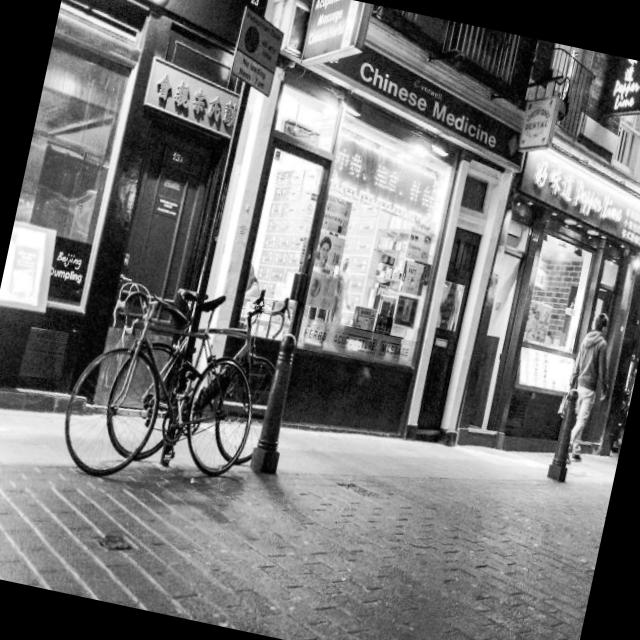Bicycle: (41, 279, 242, 508), (180, 275, 320, 502)
Person: (542, 306, 630, 467)
